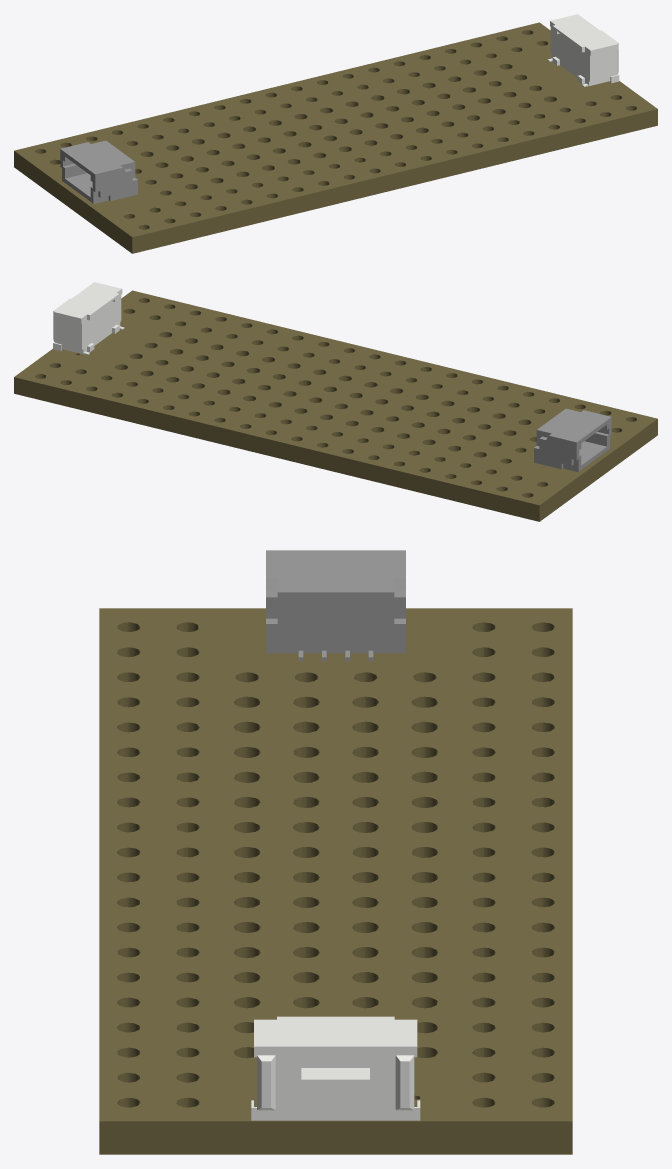
File: ada-5200.glb
The picture shows the model from 3 angles, top to bottom: view 1: azimuth 30°, elevation 25°; view 2: azimuth 150°, elevation 25°; view 3: azimuth 270°, elevation 25°; orthographic projection. The views are drawn at different scales.
Visible parts, largest first — view 1: 0.16666666666666666_0.16666666666666666_0.08333333333333333_, 0.3333333333333333_0.3333333333333333_0.3333333333333333_0, 0.9166666666666666_0.9166666666666666_0.9166666666666666_0.8; view 2: 0.16666666666666666_0.16666666666666666_0.08333333333333333_, 0.3333333333333333_0.3333333333333333_0.3333333333333333_0, 0.9166666666666666_0.9166666666666666_0.9166666666666666_0.8; view 3: 0.16666666666666666_0.16666666666666666_0.08333333333333333_, 0.9166666666666666_0.9166666666666666_0.9166666666666666_0.8, 0.3333333333333333_0.3333333333333333_0.3333333333333333_0.
Boxes of the visible parts, x1,y1,x2,y2 form: 0.16666666666666666_0.16666666666666666_0.08333333333333333_: [14, 22, 657, 253]; 0.3333333333333333_0.3333333333333333_0.3333333333333333_0: [60, 140, 137, 204]; 0.9166666666666666_0.9166666666666666_0.9166666666666666_0.8: [547, 14, 619, 86]; 0.16666666666666666_0.16666666666666666_0.08333333333333333_: [14, 290, 657, 521]; 0.3333333333333333_0.3333333333333333_0.3333333333333333_0: [534, 408, 611, 472]; 0.9166666666666666_0.9166666666666666_0.9166666666666666_0.8: [53, 282, 124, 354]; 0.16666666666666666_0.16666666666666666_0.08333333333333333_: [99, 608, 572, 1154]; 0.9166666666666666_0.9166666666666666_0.9166666666666666_0.8: [251, 1016, 420, 1120]; 0.3333333333333333_0.3333333333333333_0.3333333333333333_0: [266, 550, 405, 661].
Size of the model in its own units: 5.32 by 0.507 by 2.03.
